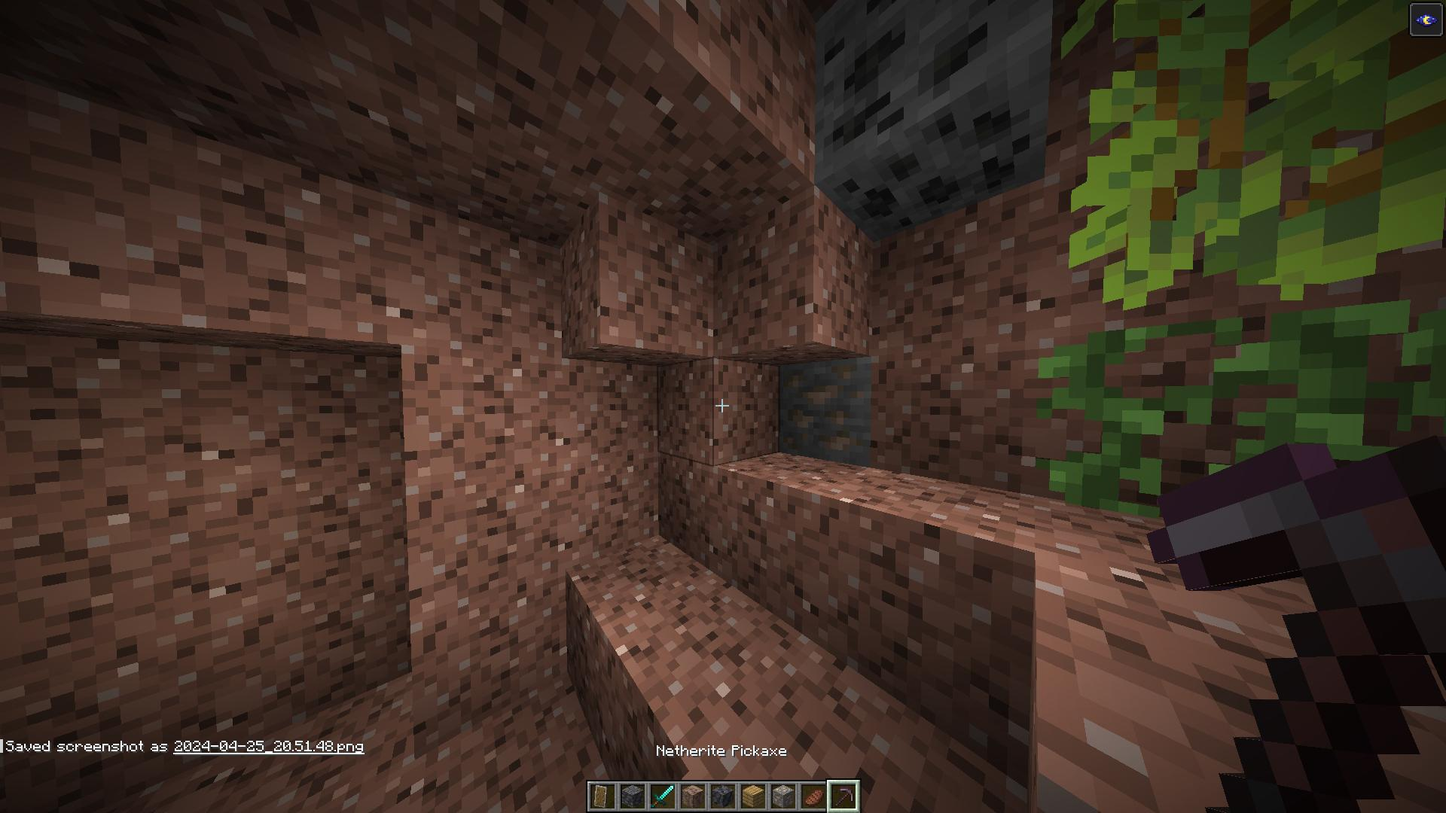iron ore: (775, 359, 864, 455)
